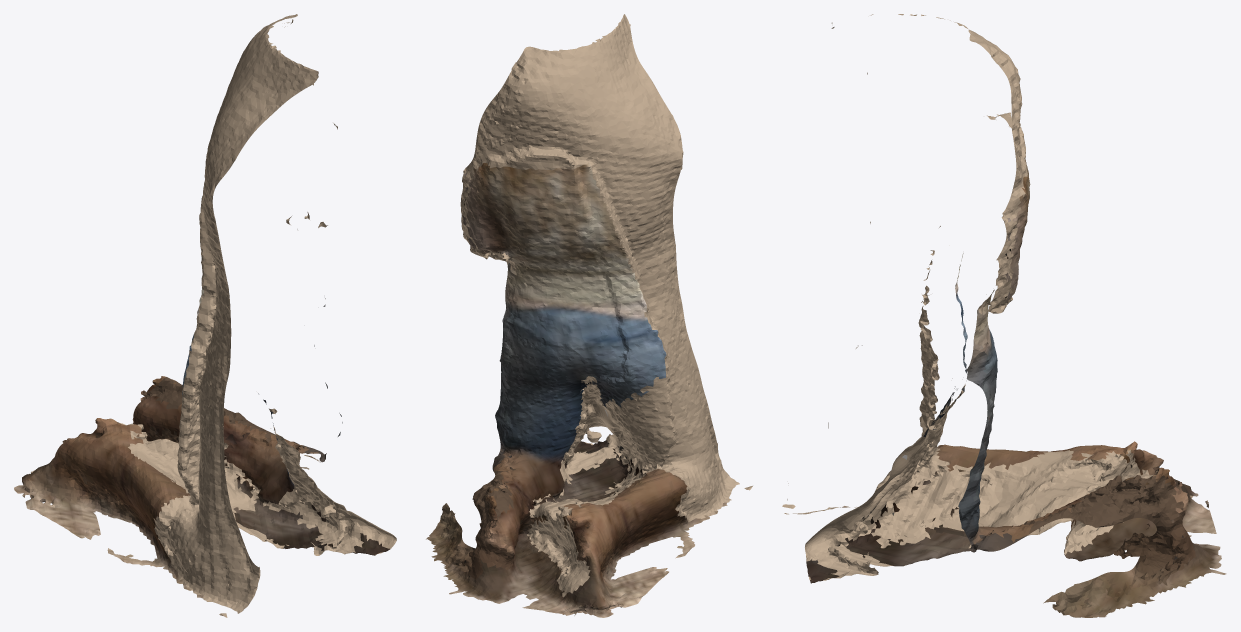
3 views of the same model, side by side, from view 1: azimuth 30°, elevation 25°; view 2: azimuth 150°, elevation 25°; view 3: azimuth 270°, elevation 25° (orthographic). The views are drawn at different scales.
Size of the model in its own units: 0.5448 by 1.02 by 0.7465.
1 material, 1 textured.
